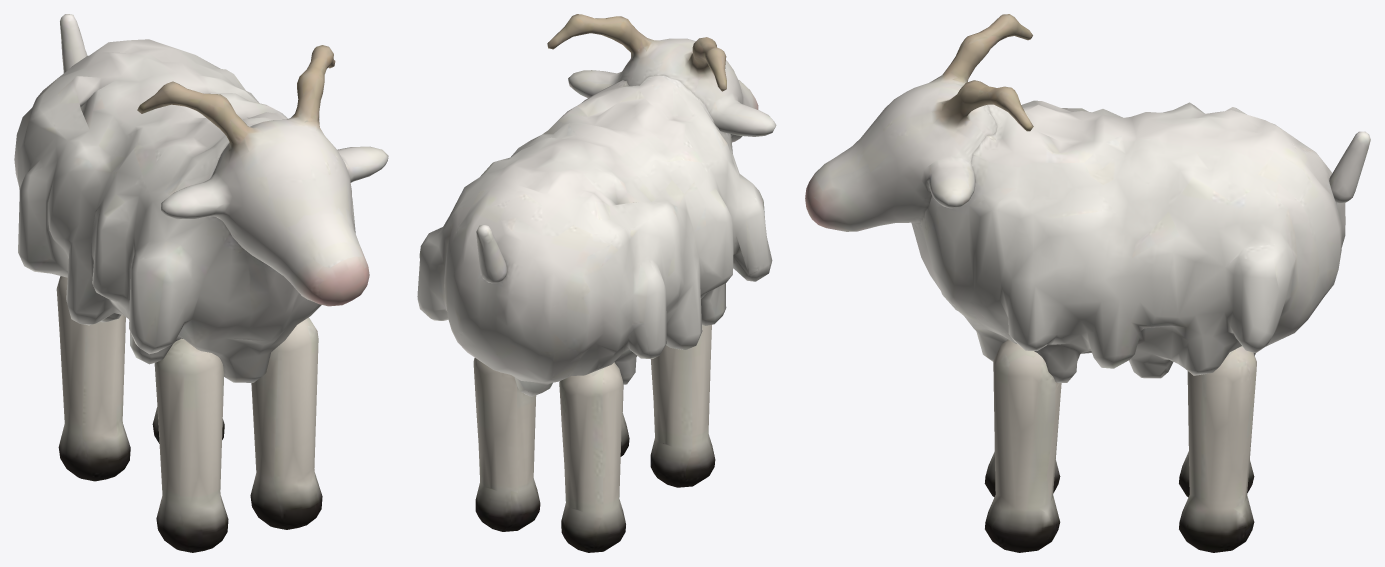
The model's file is animal_angora_goat.glb.
The picture shows the model from 3 angles, left to right: view 1: azimuth 30°, elevation 25°; view 2: azimuth 150°, elevation 25°; view 3: azimuth 270°, elevation 25°; orthographic projection. The views are drawn at different scales.
Parts seen in each view (by area): view 1: animal_angora_goat, head, leg0, leg1, leg2, tail; view 2: animal_angora_goat, leg2, head, leg3, leg0, tail; view 3: animal_angora_goat, head, leg1, leg3, tail.
Part boxes in pixels (x1,y1,x2,y2): animal_angora_goat: (14, 39, 355, 382); head: (137, 45, 388, 306); leg0: (154, 338, 228, 552); leg1: (250, 317, 322, 529); leg2: (56, 276, 130, 481); tail: (60, 14, 87, 73); animal_angora_goat: (417, 75, 772, 396); leg2: (559, 362, 625, 552); head: (547, 14, 776, 142); leg3: (473, 358, 540, 531); leg0: (650, 325, 715, 487); tail: (476, 224, 507, 283); animal_angora_goat: (911, 100, 1345, 382); head: (805, 14, 1033, 231); leg1: (985, 339, 1061, 552); leg3: (1179, 346, 1256, 552); tail: (1329, 131, 1370, 203).
Size of the model in its own units: 0.2648 by 0.486 by 0.5248.
Materials: 1 (1 with a texture image).
